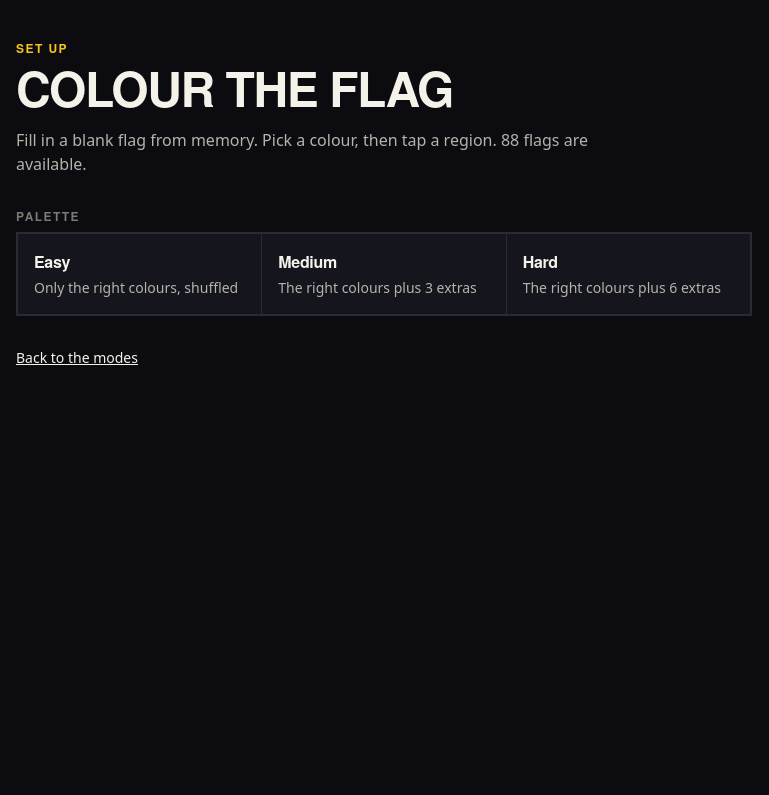
it: painting (T6.3) › disables undo with nothing to undo, and redo with nothing to redo
The width and height of the screenshot is (769, 795).
Click the button "Easy Only the right colours, shuffled" at coordinates (140, 274), box left=18, top=234, right=261, bottom=314
(page scrolled)
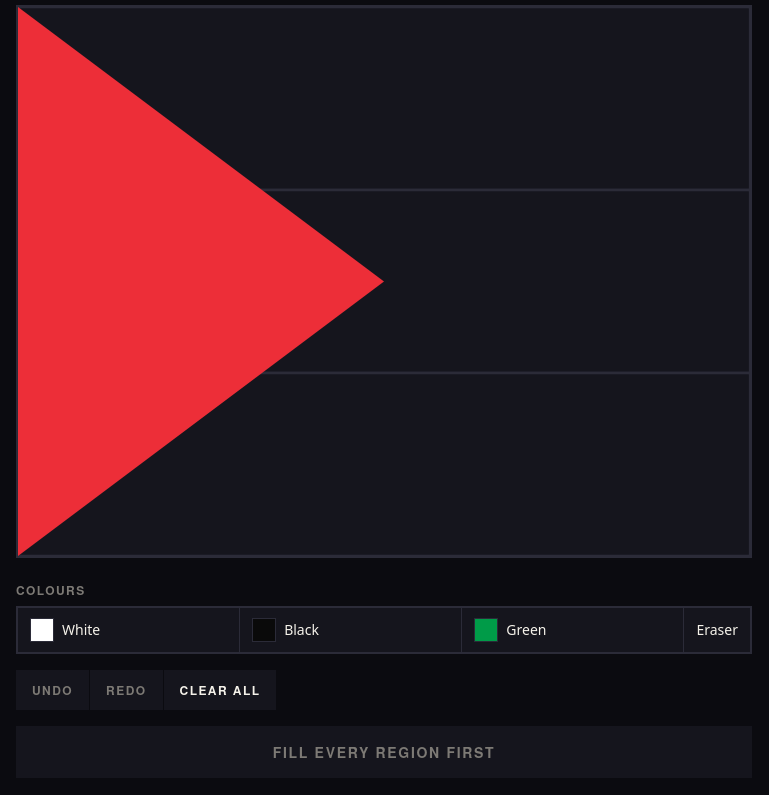
Expected: the button "Undo" is disabled, left=16, top=670, right=89, bottom=710
Expected: the button "Redo" is disabled, left=90, top=670, right=162, bottom=710
